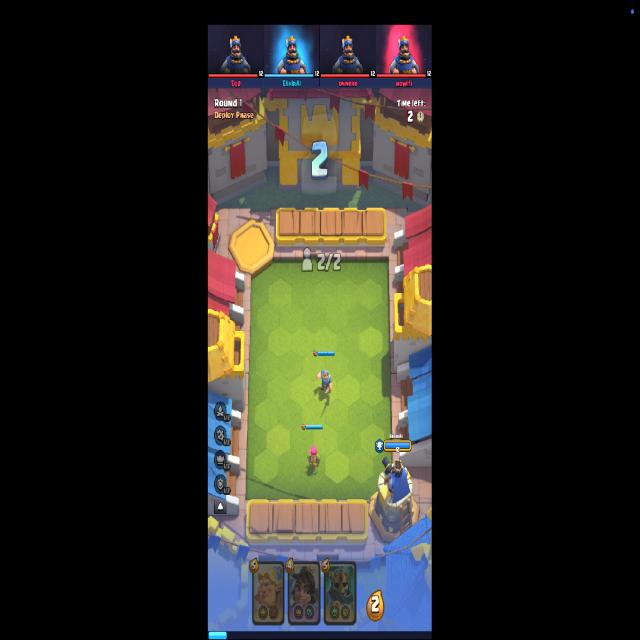archer: (308, 445, 320, 470)
card_golden_knight: (252, 560, 285, 625)
card_princess: (288, 559, 320, 626)
card_skeleton_king: (323, 559, 357, 626)
knight: (315, 369, 332, 396)
